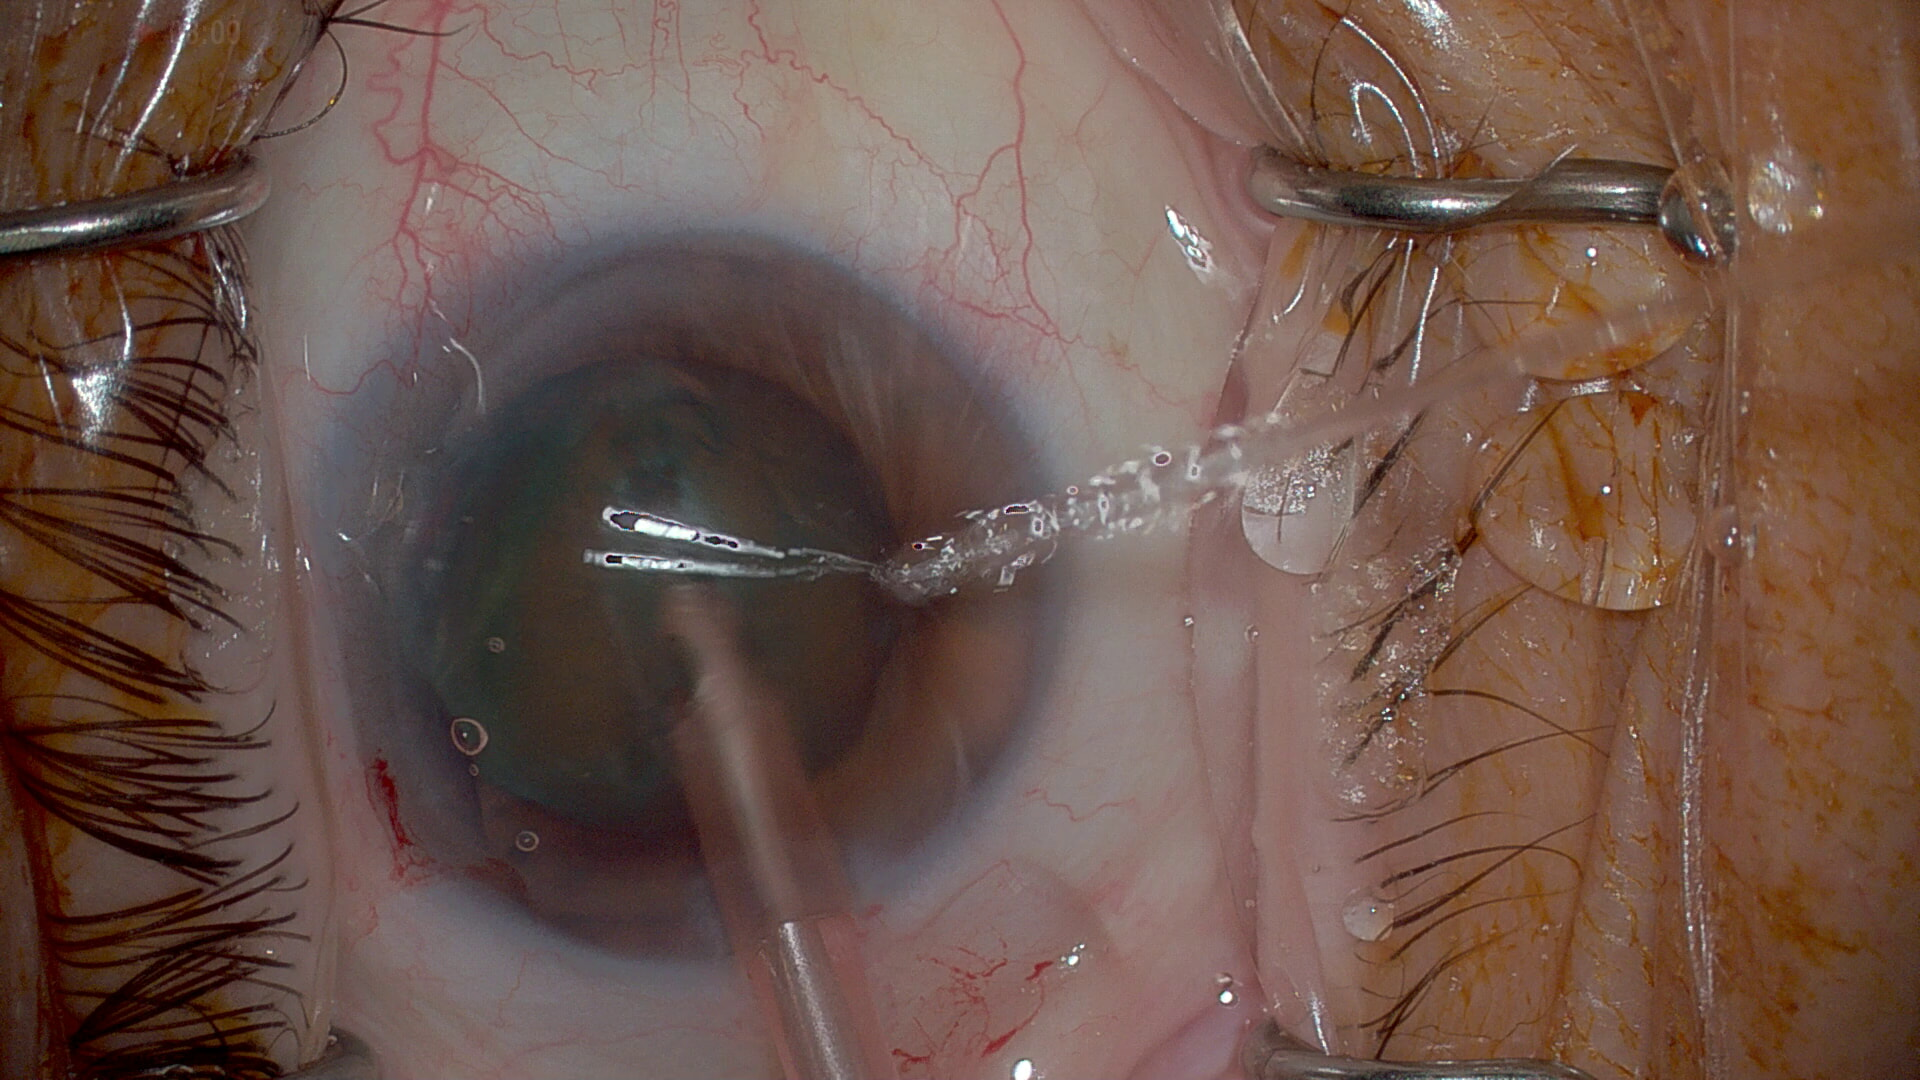iris: (335, 238, 1045, 960)
pupil: (415, 355, 908, 833)
